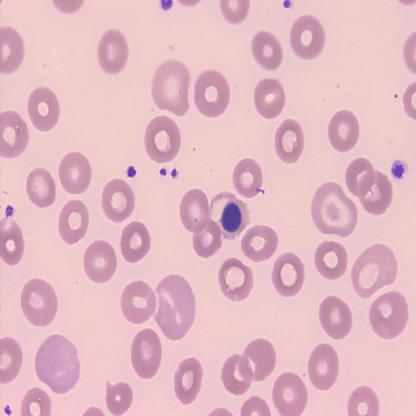NRC: (218, 200, 244, 234)
